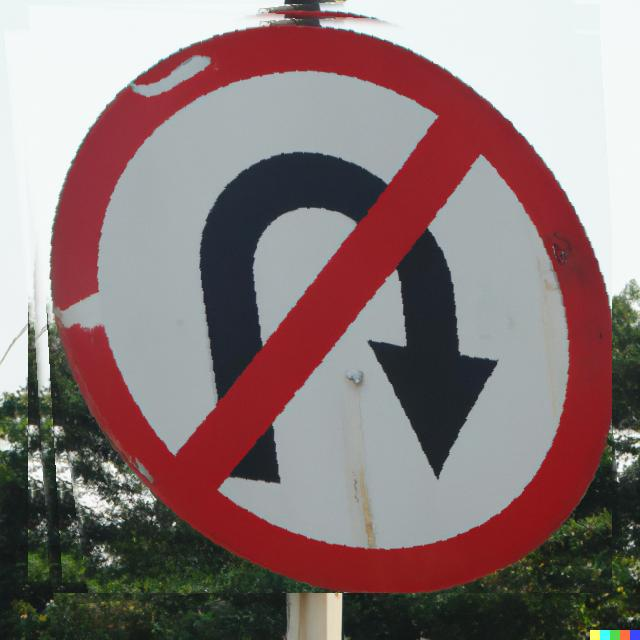no u turn: (15, 0, 612, 593)
